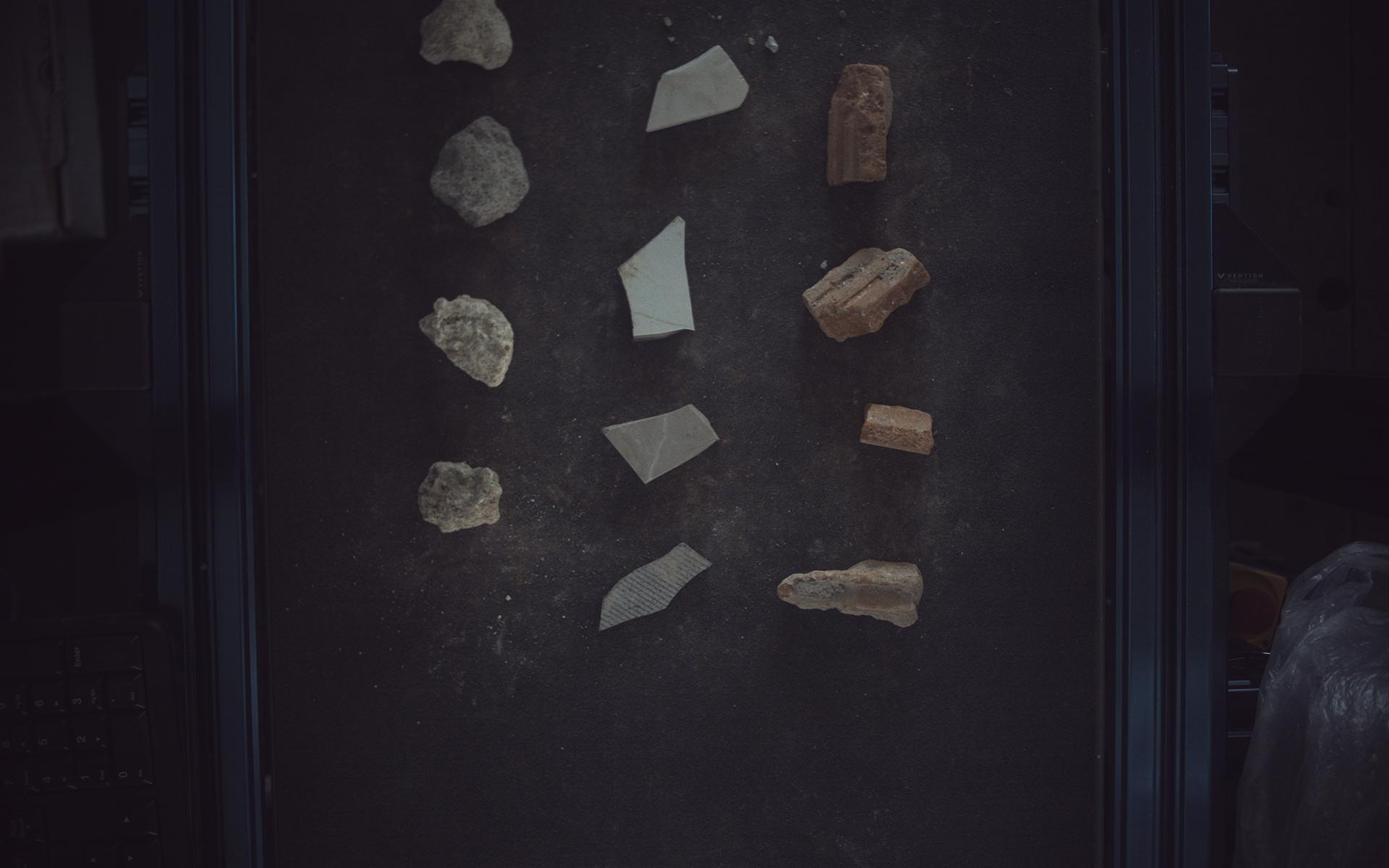brick: (804, 247, 931, 341), (778, 561, 925, 628), (828, 62, 895, 185), (862, 404, 936, 454)
concrete: (430, 115, 530, 226), (420, 294, 514, 387), (420, 1, 513, 68), (419, 461, 503, 533)
tile: (600, 543, 711, 631), (619, 216, 696, 341), (603, 405, 720, 483), (647, 45, 750, 131)
